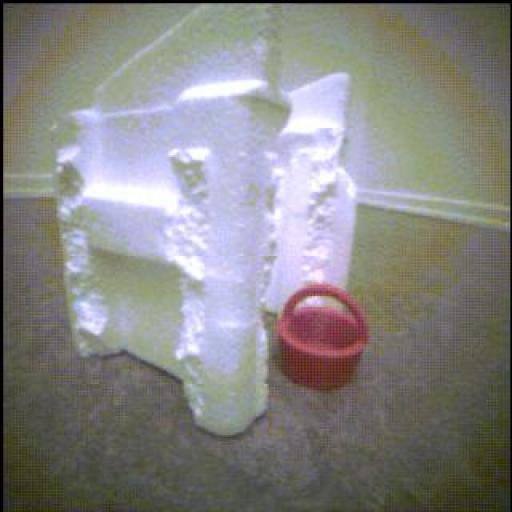Bucket: (279, 285, 369, 392)
